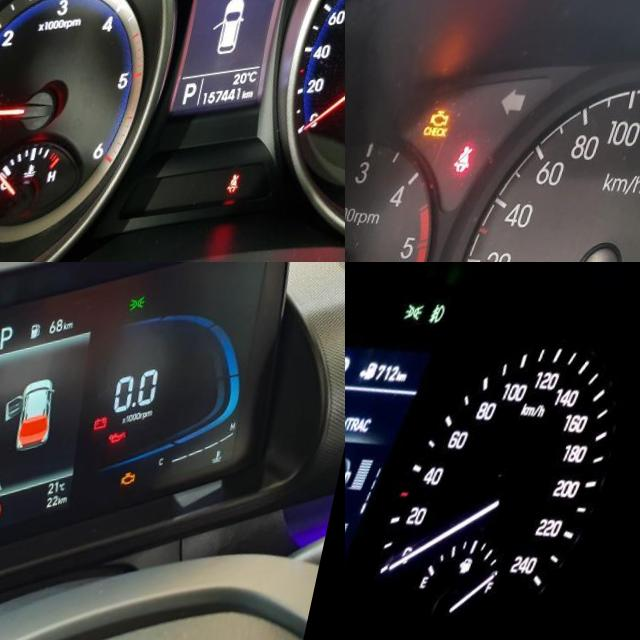Doors: (0, 183, 12, 202)
FrontFogLight: (432, 312, 453, 336)
LaneCenteringOff: (0, 487, 19, 503)
SideLamp: (406, 309, 431, 334), (136, 306, 154, 322)
